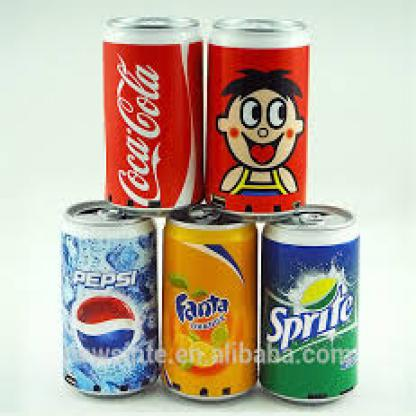METAL: (203, 17, 308, 218), (99, 13, 204, 212), (258, 204, 360, 403), (156, 204, 258, 399), (61, 196, 157, 397)
